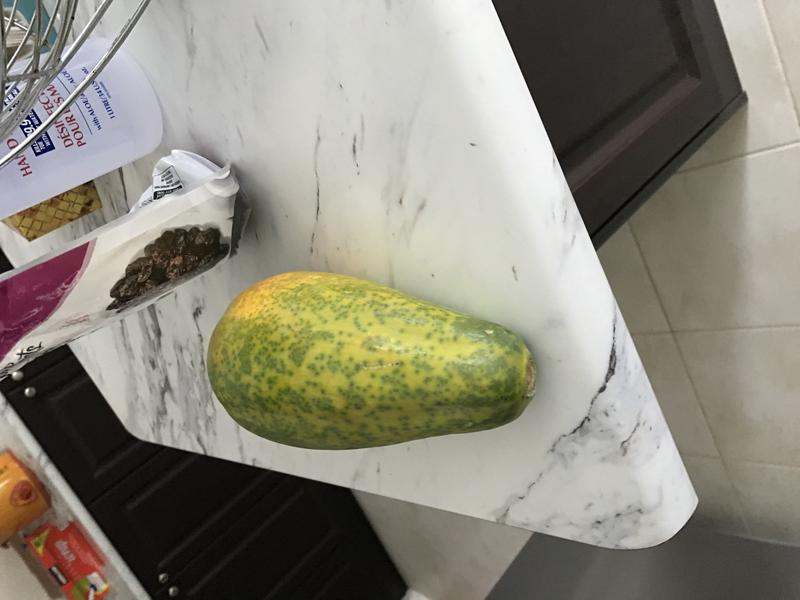papaya: (197, 261, 551, 455)
